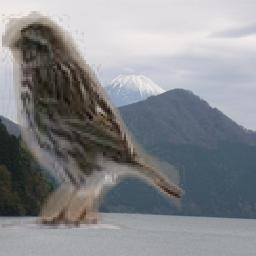Sparrow: (2, 11, 186, 229)
